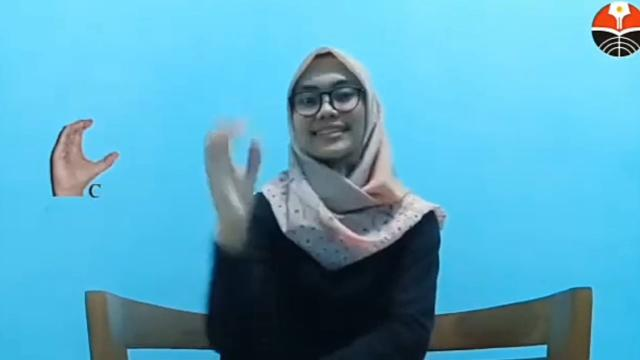C: (202, 120, 262, 226)
